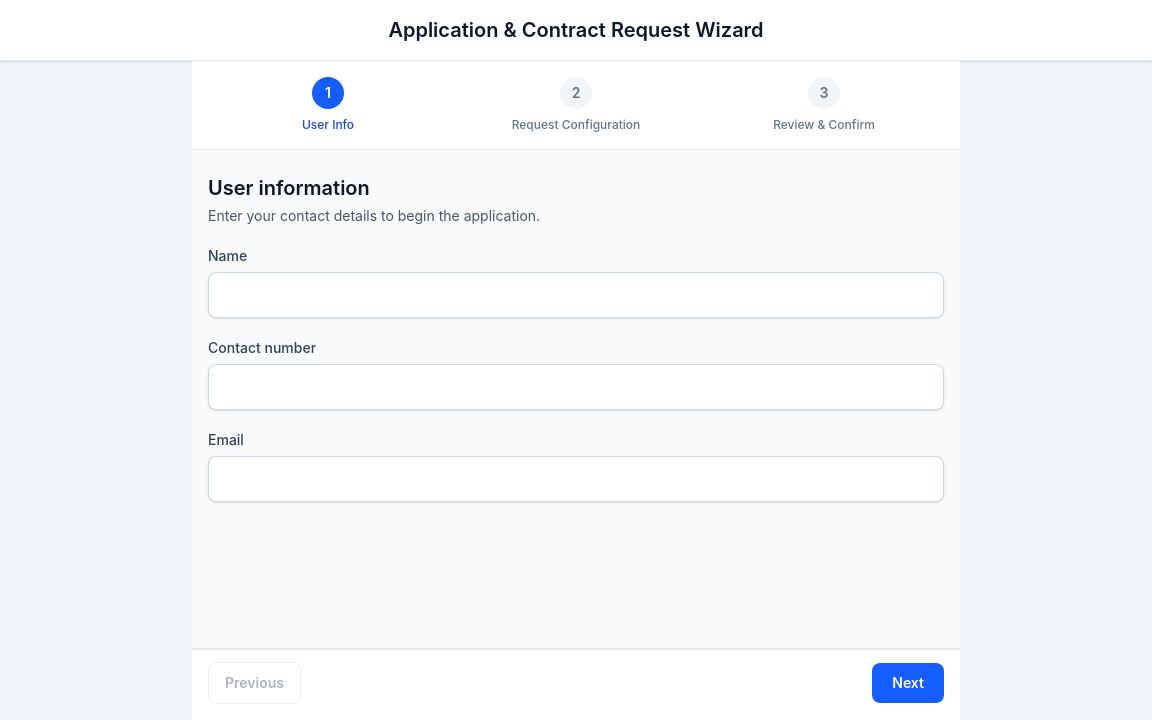
ApplicationWizard › blocks navigation to step 2 when required user fields are empty
The width and height of the screenshot is (1152, 720).
Click the button "Next" at [908, 683], box [872,663,944,703]
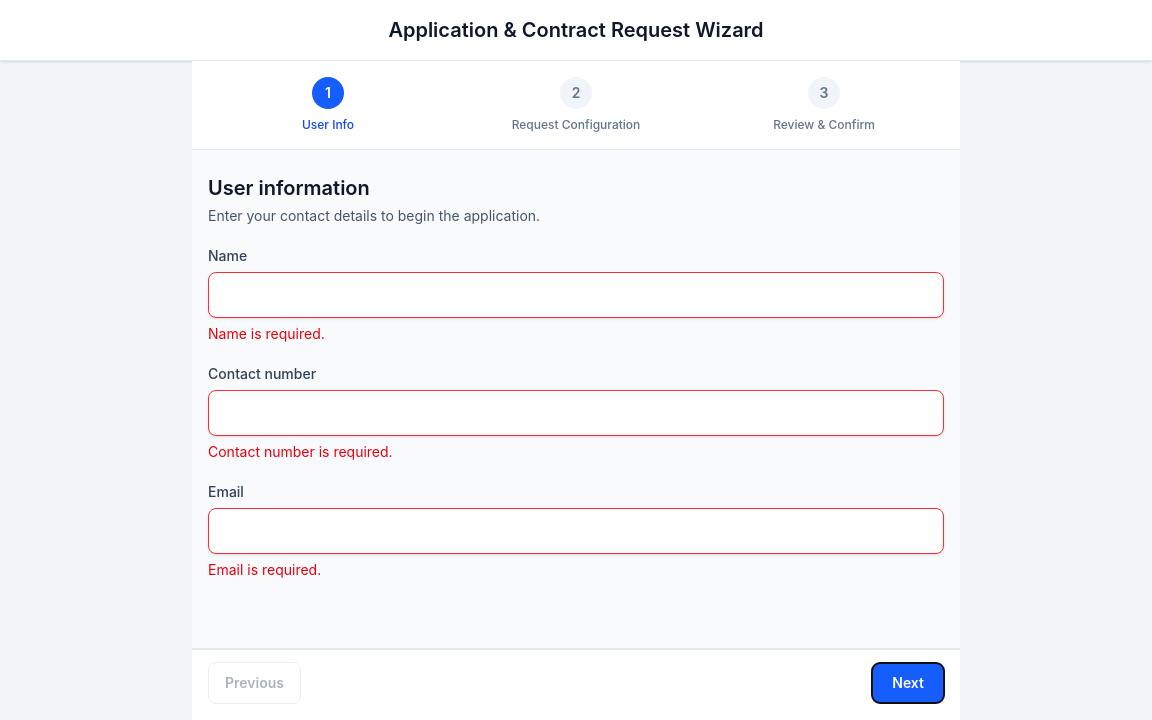
Check: the heading "User information" is shown, box [208,176,370,200]
Check: the text "Name is required." is shown, box [208,325,325,342]
